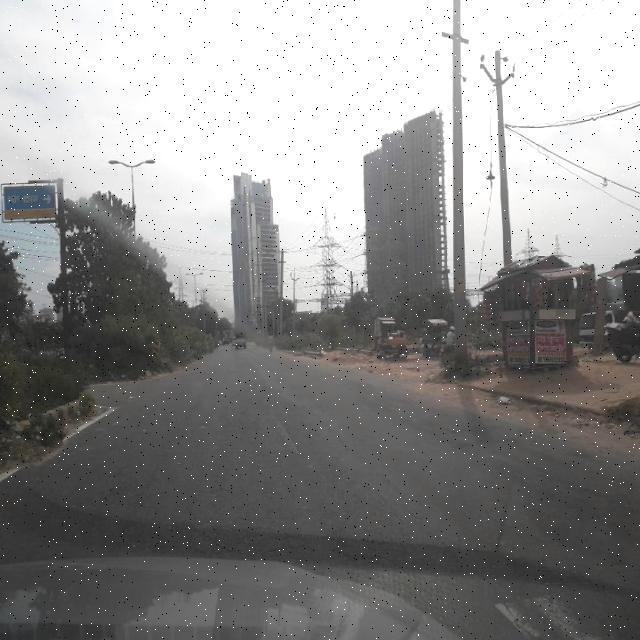D20: (23, 418, 468, 554)
D44: (262, 384, 300, 452)
